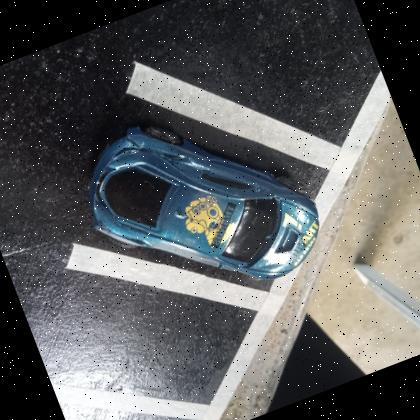Car: (86, 120, 320, 279)
